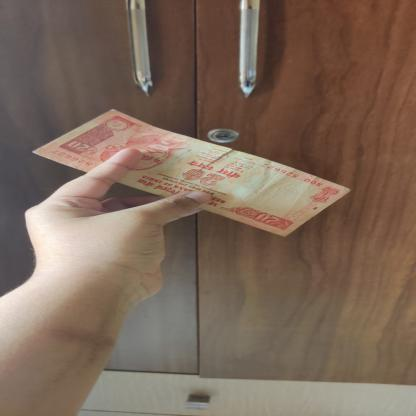Old20Front: (32, 109, 350, 237)
